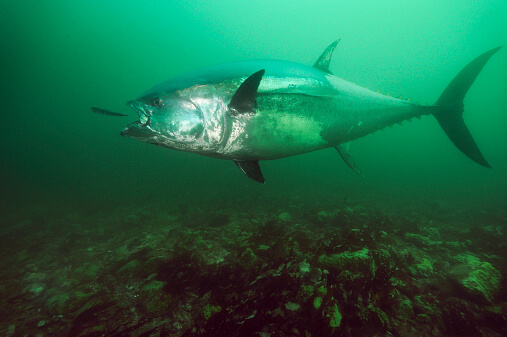Bluefina Tuna: (119, 38, 503, 191)
